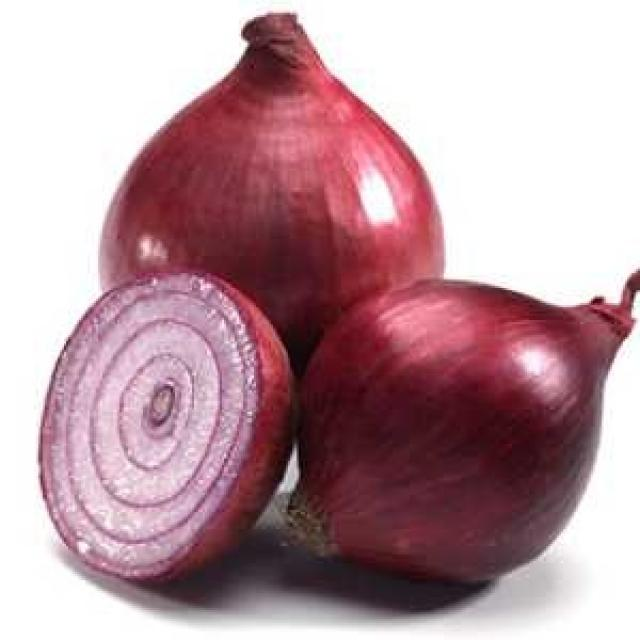onion: (98, 8, 446, 382), (273, 266, 638, 584), (34, 269, 297, 584)
